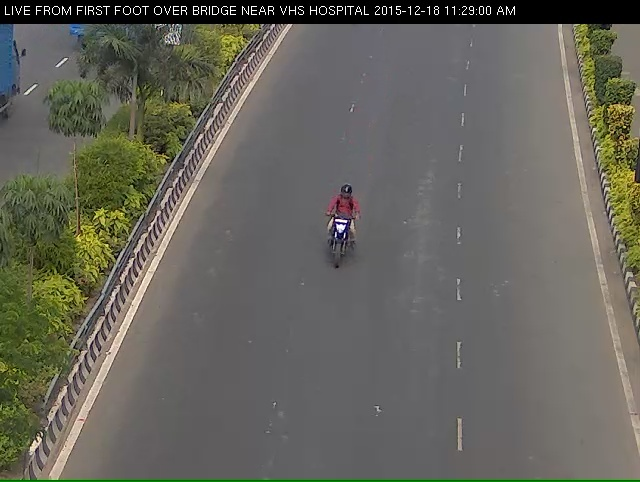Person: (315, 196, 362, 287)
